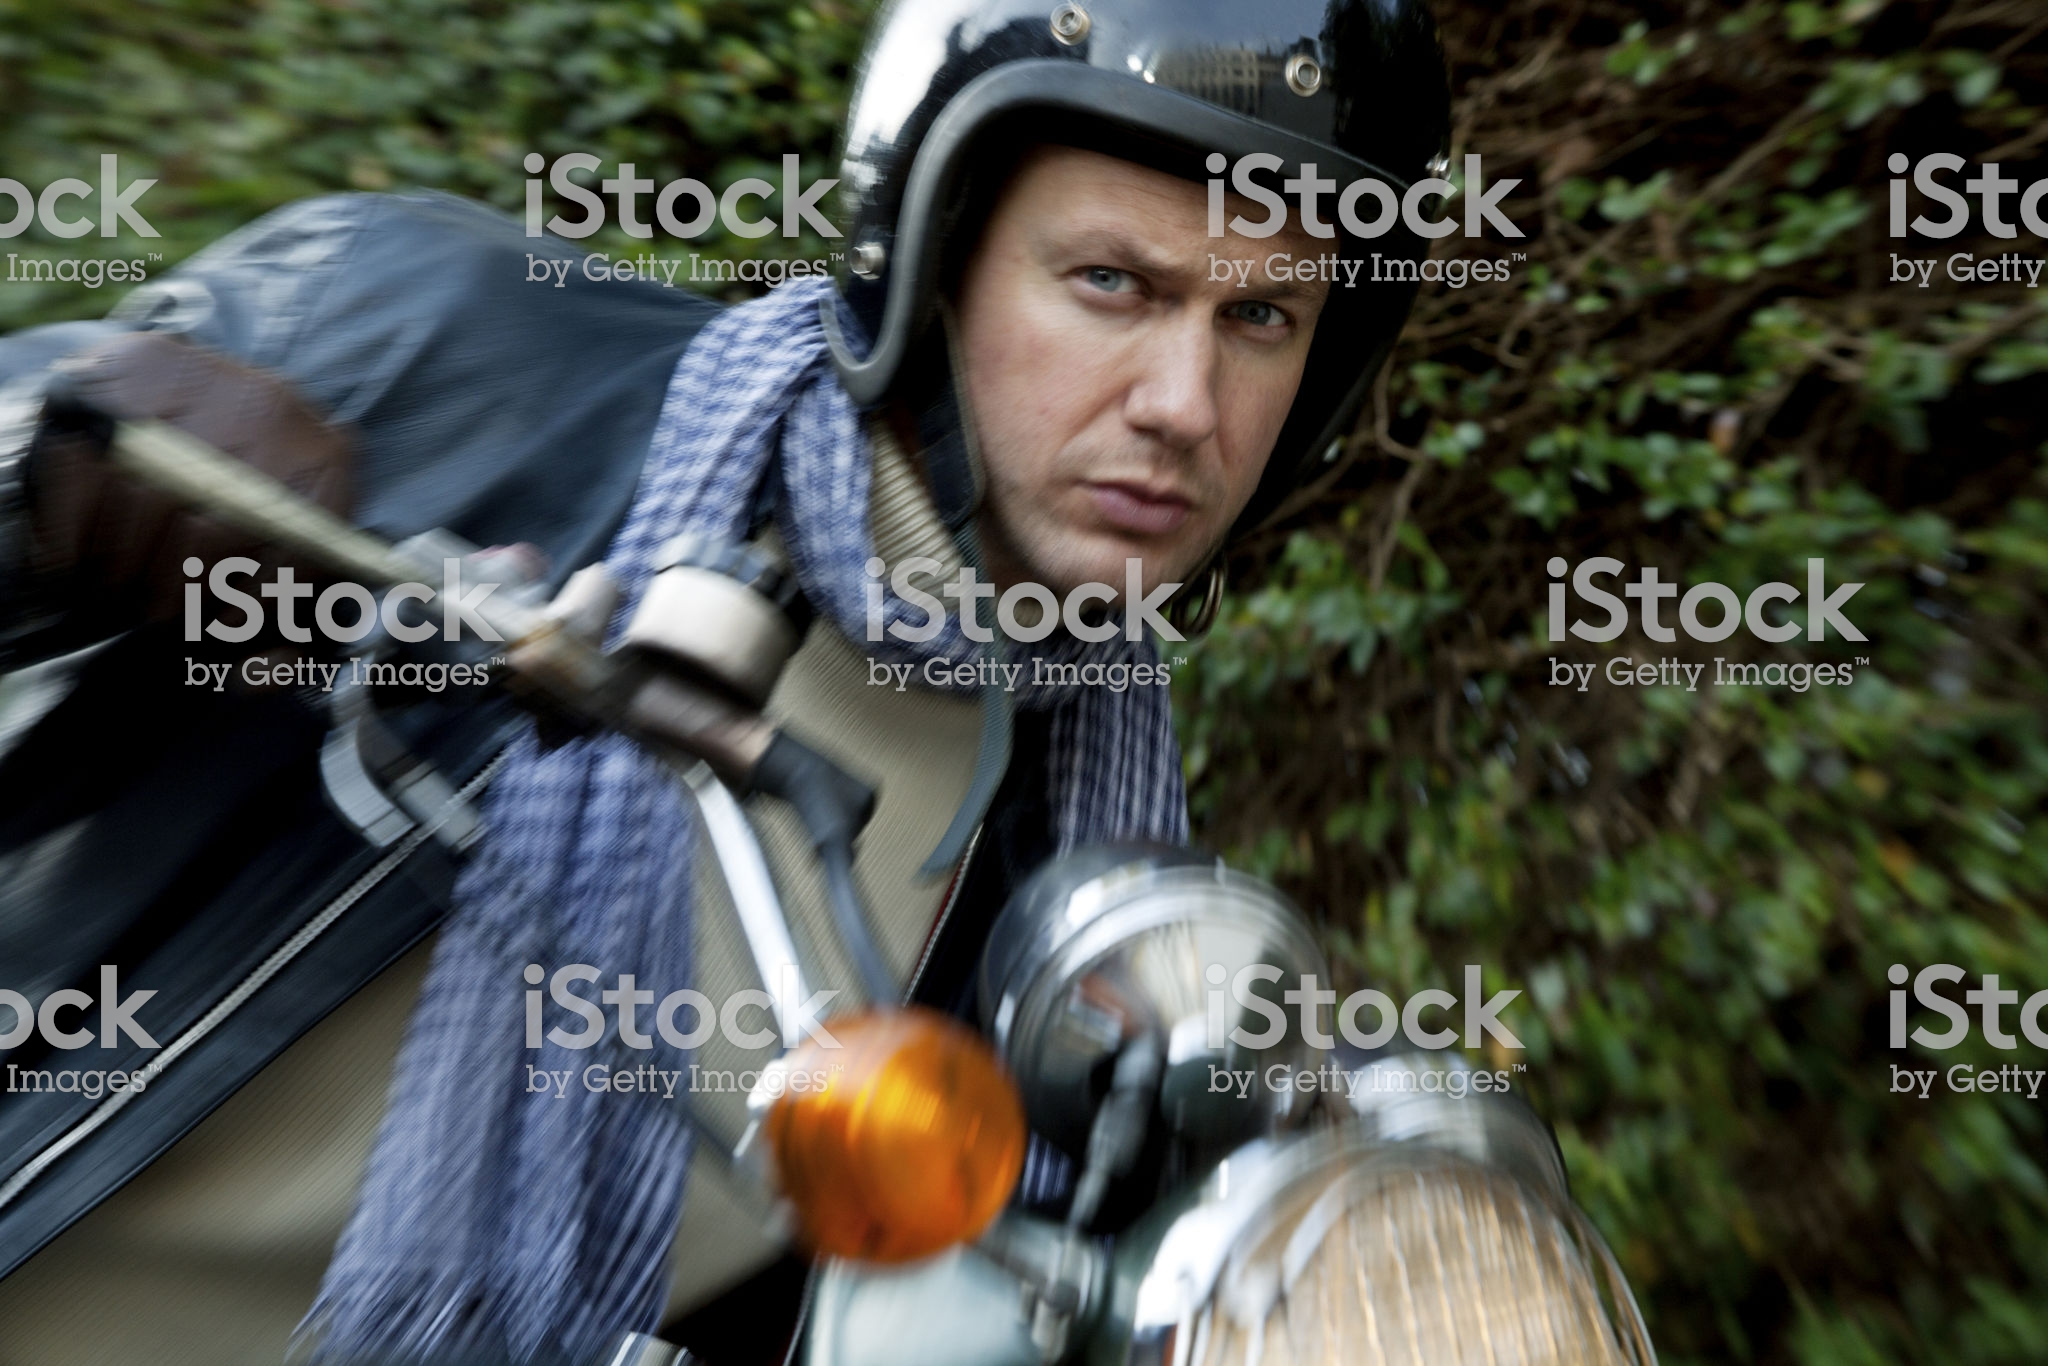helmet: (821, 6, 1445, 448)
